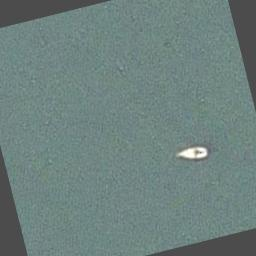boat: (174, 140, 210, 166)
